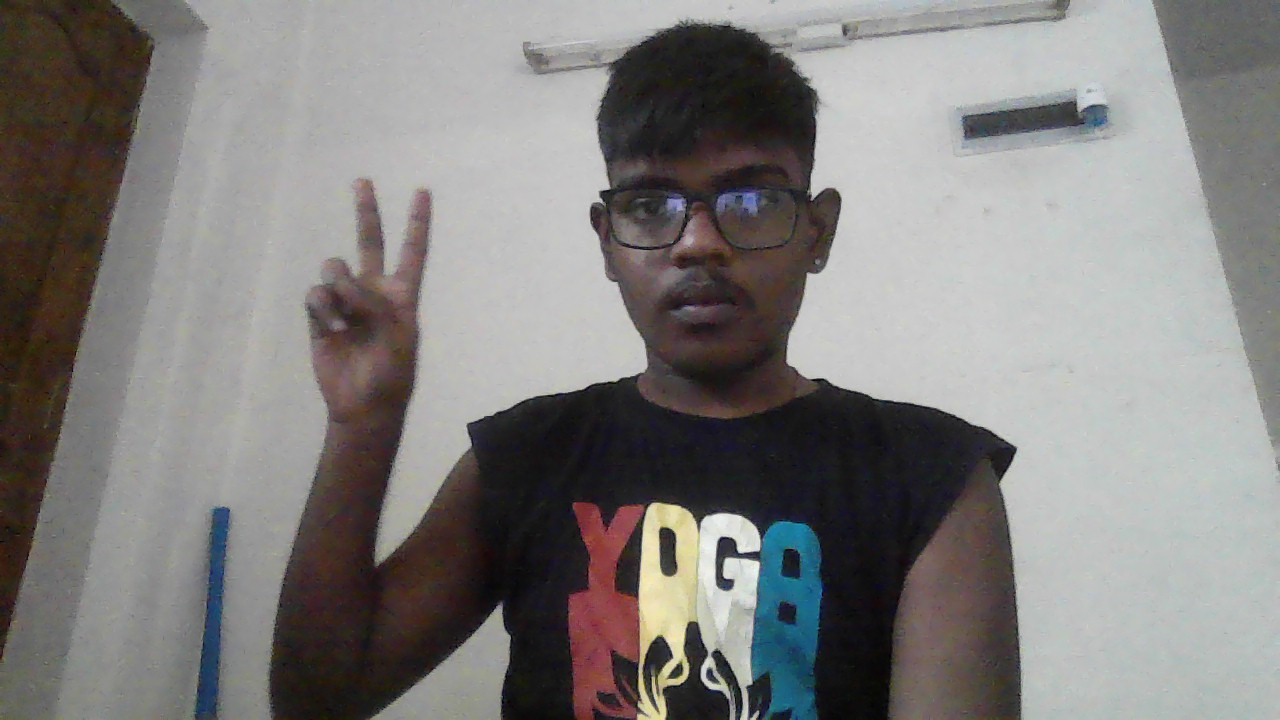V: (306, 177, 432, 418)
